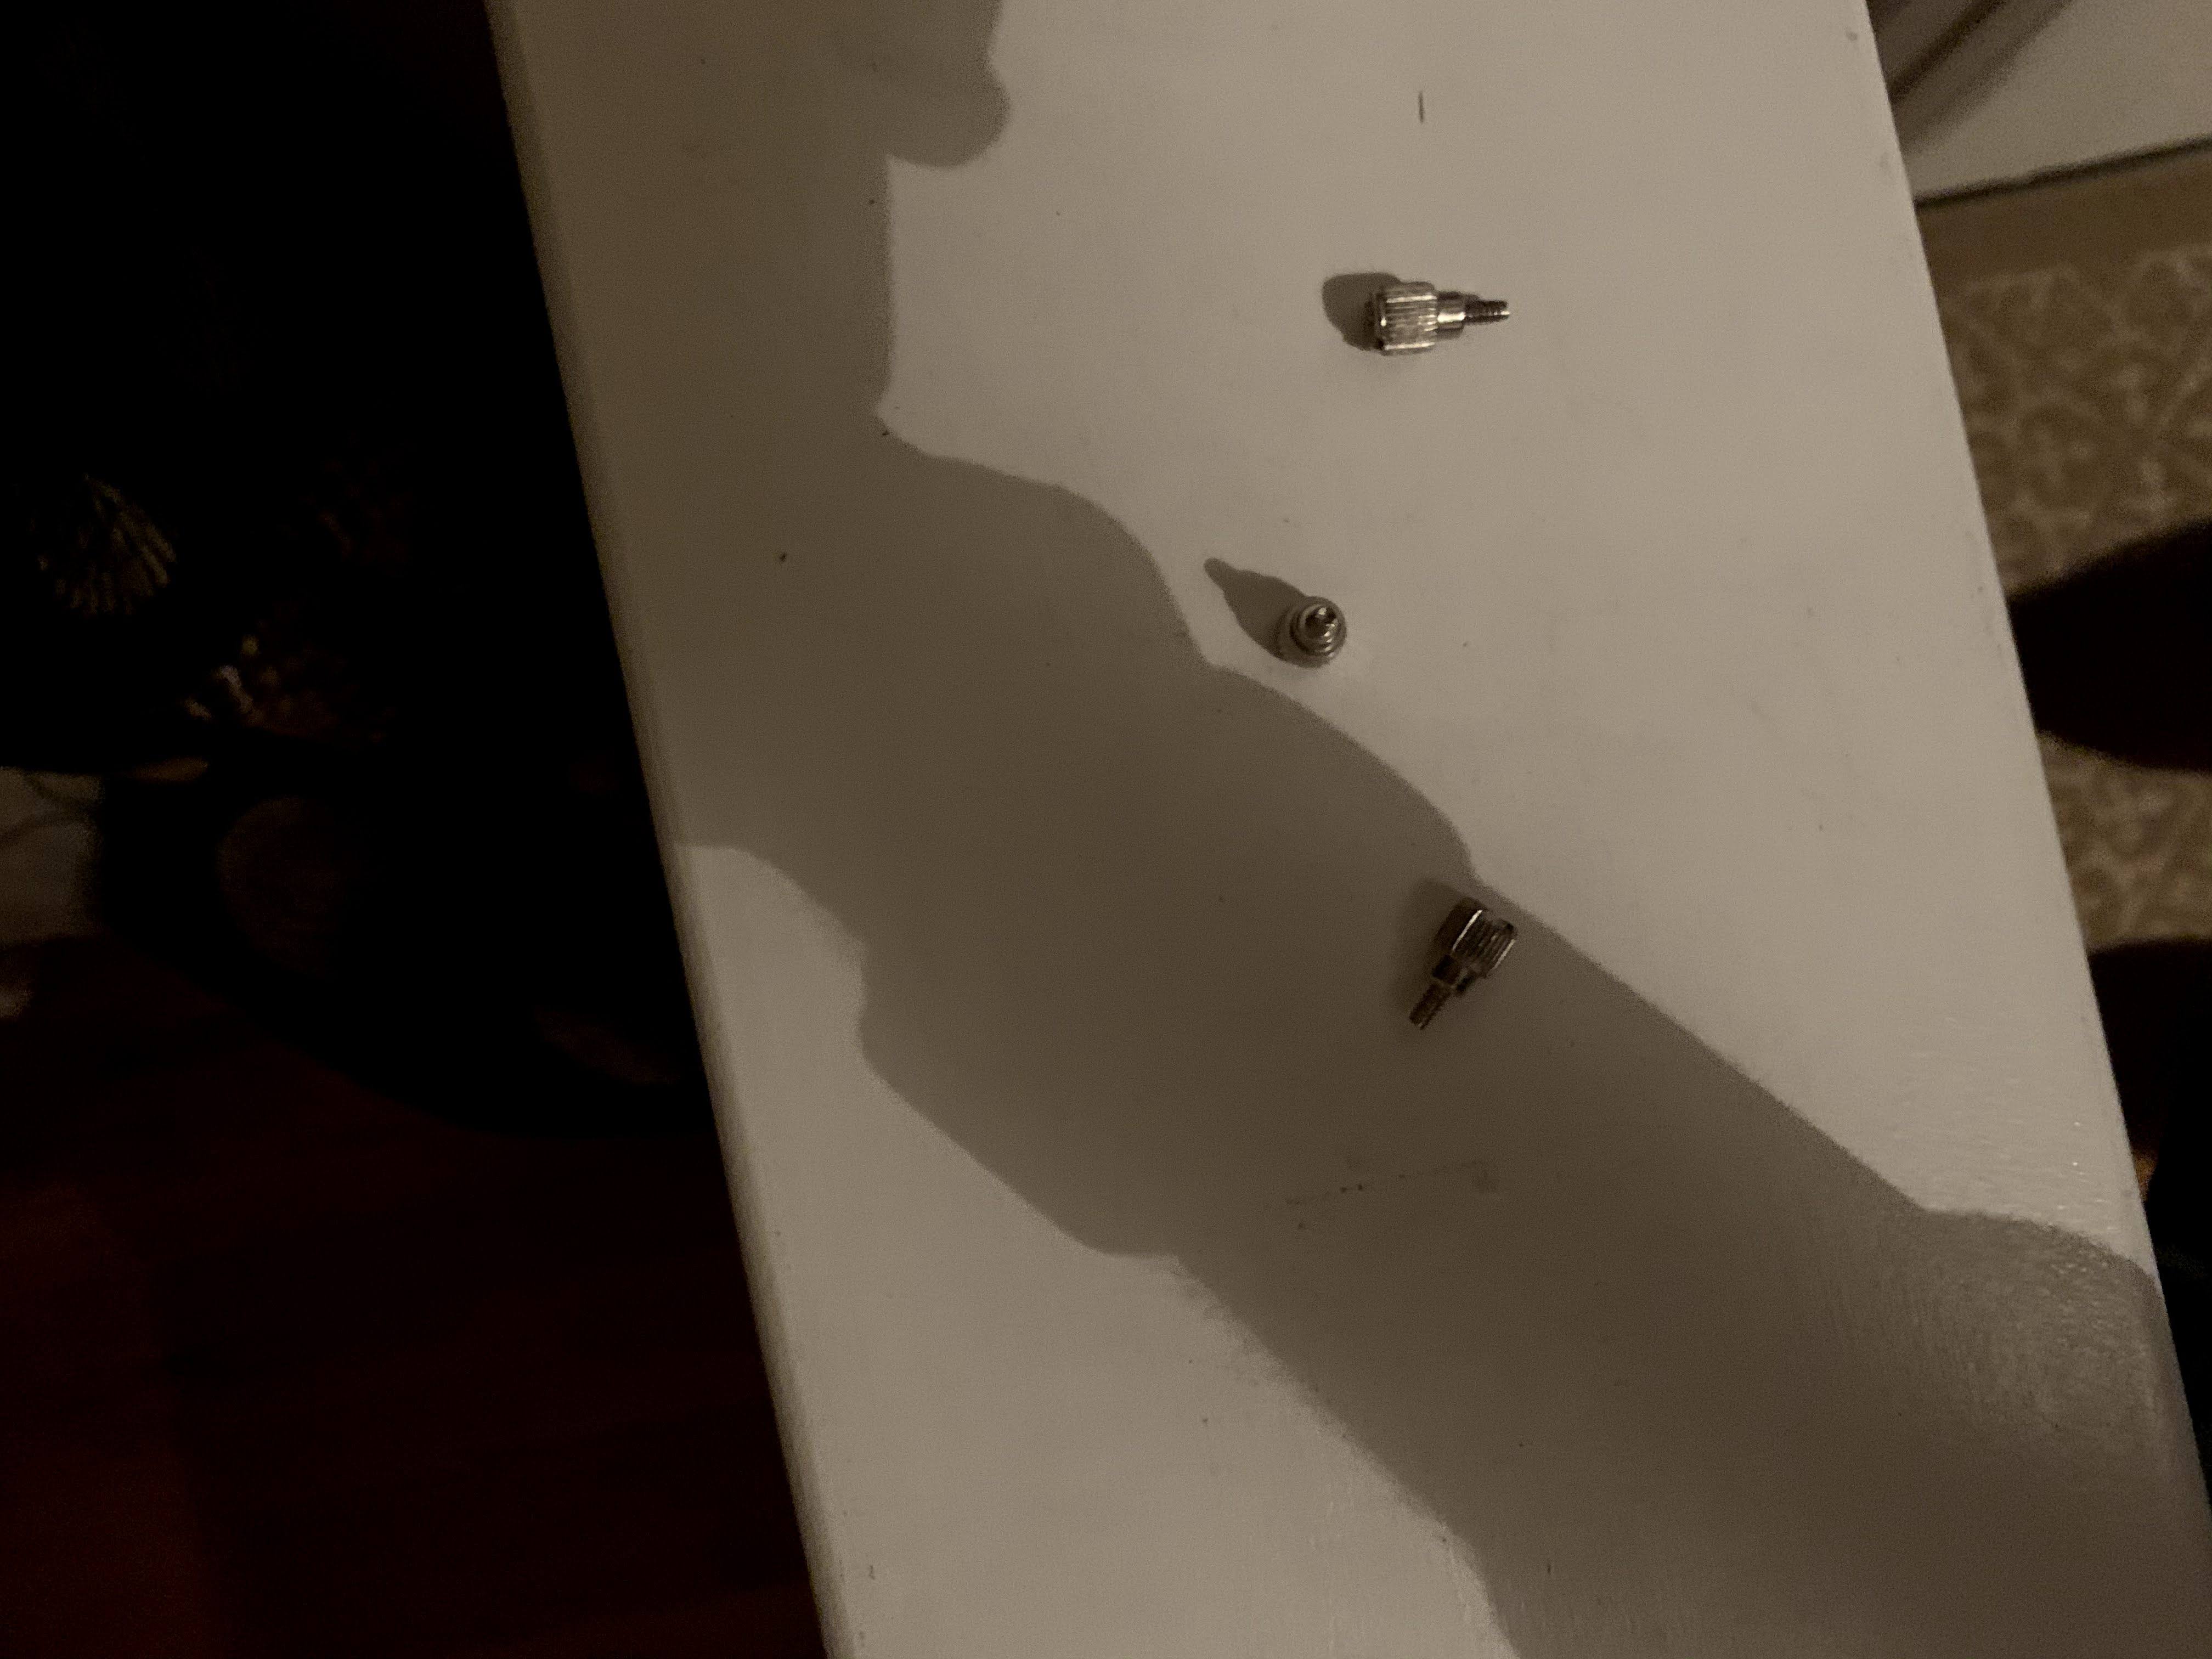Space-debris-small: (1404, 884, 1519, 1051), (1364, 270, 1517, 359), (1270, 579, 1362, 680)
